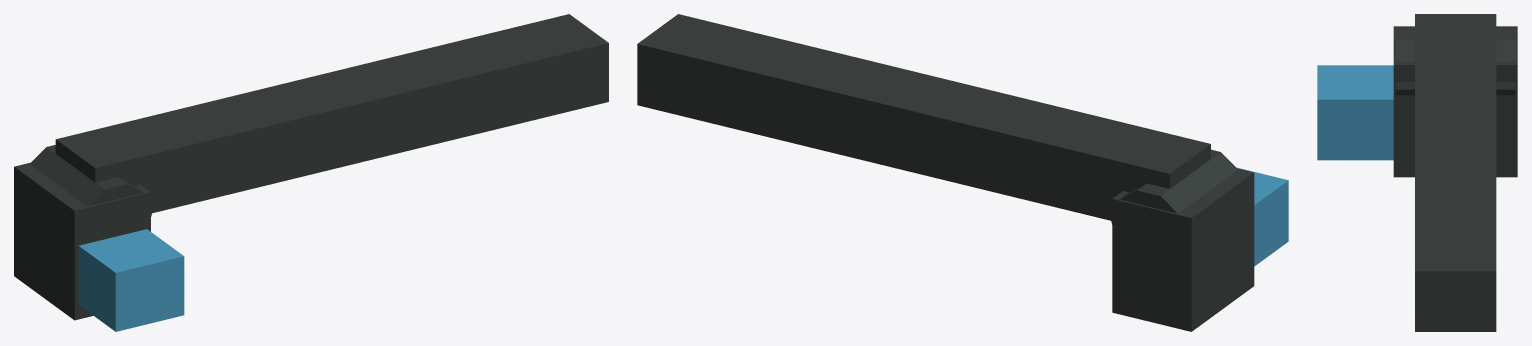
The model's file is Bastion_RepairBay_ServiceArmRight.obj.
The picture shows the model from 3 angles, left to right: view 1: azimuth 30°, elevation 25°; view 2: azimuth 150°, elevation 25°; view 3: azimuth 270°, elevation 25°; orthographic projection. The views are drawn at different scales.
Parts seen in each view (by area): view 1: Bastion_RepairBay_ServiceArmRight; view 2: Bastion_RepairBay_ServiceArmRight; view 3: Bastion_RepairBay_ServiceArmRight.
Boxes of the visible parts, left/top/right/bottom form: Bastion_RepairBay_ServiceArmRight: left=14, top=14, right=608, bottom=331; Bastion_RepairBay_ServiceArmRight: left=637, top=14, right=1288, bottom=331; Bastion_RepairBay_ServiceArmRight: left=1317, top=14, right=1517, bottom=331.
Bounding box in the file's own units: 2.7 × 0.65 × 0.84.
1 material, 1 textured.
